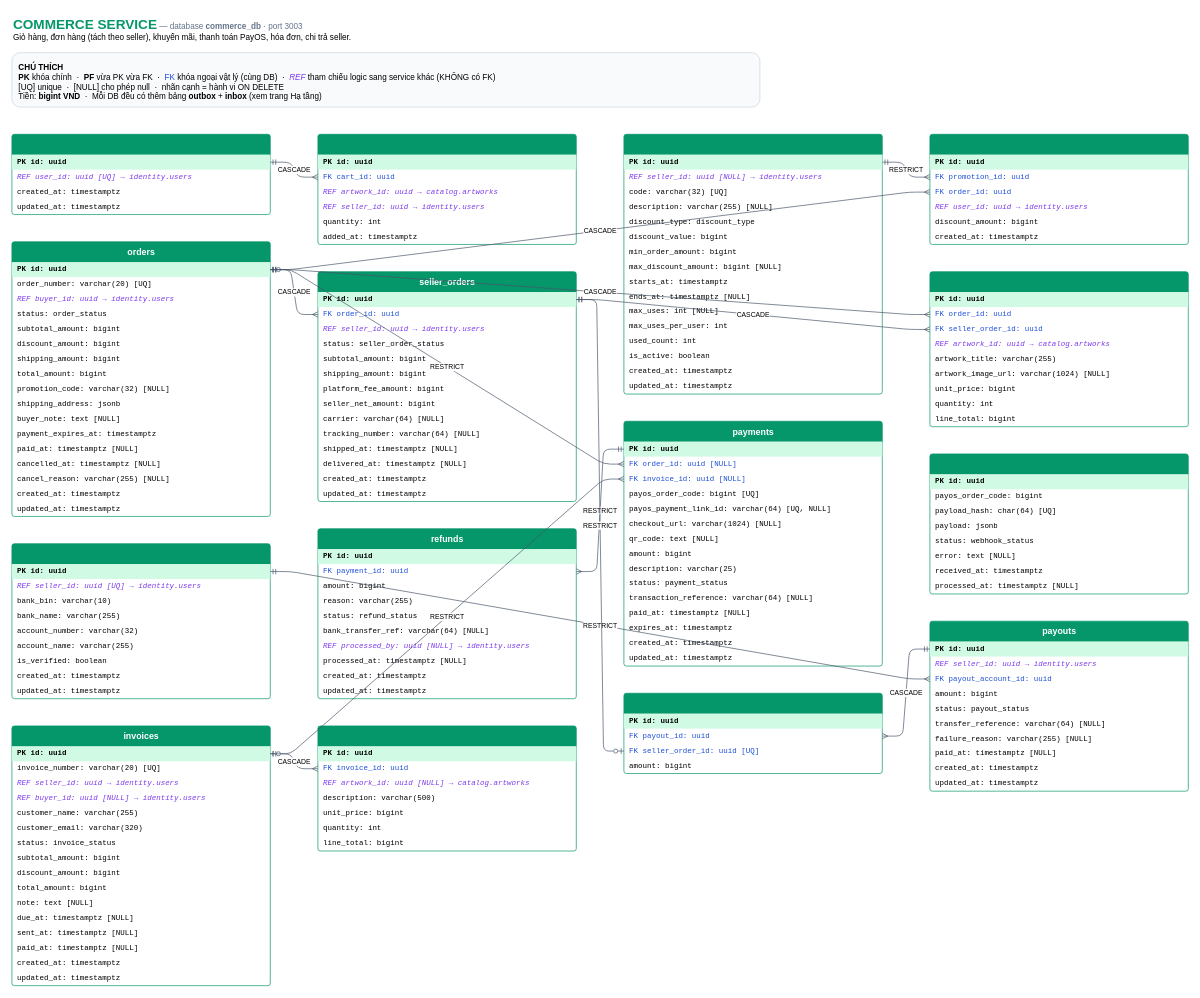
Image size: 1200x998. Some labels were removed from this diagram. The shapes that lost their labels are listed below. From the top down, each one's box as (x1, y1, x2, y2) in pixels, then its label:
(11, 134, 270, 215): carts
(317, 134, 576, 244): cart_items
(929, 134, 1188, 244): promotion_redemptions
(623, 134, 882, 394): promotions
(929, 271, 1188, 427): order_items
(929, 453, 1188, 594): payment_webhook_events
(11, 543, 270, 699): seller_payout_accounts
(623, 693, 882, 774): payout_items
(317, 725, 576, 851): invoice_items
